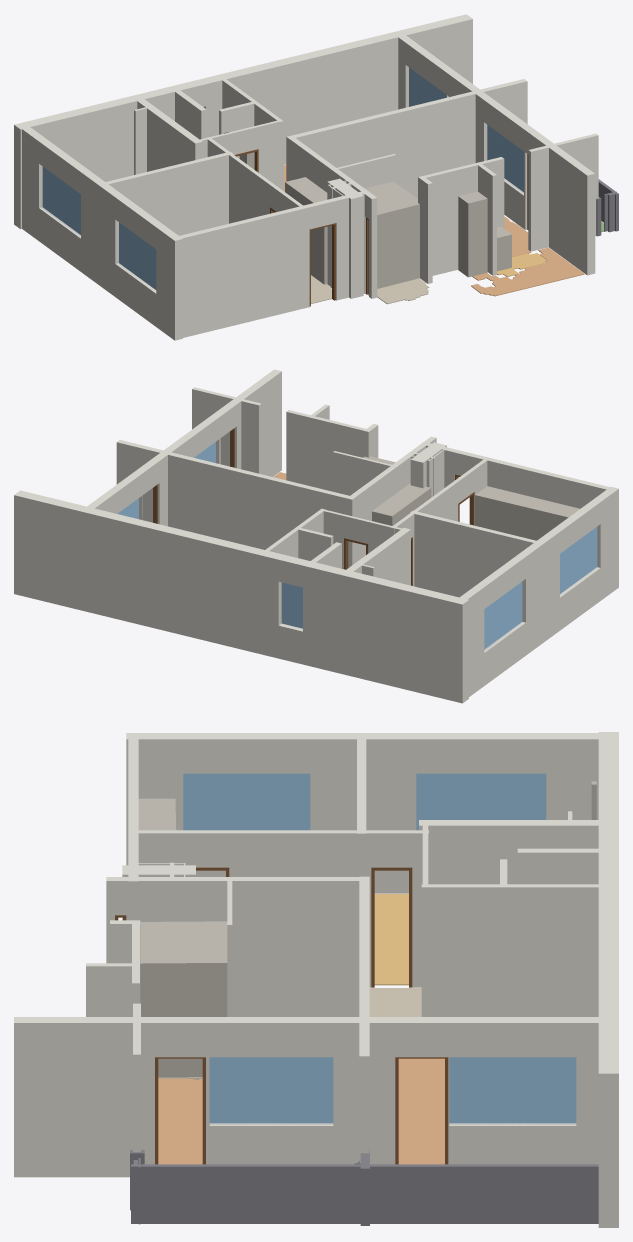
3 renders of one model, top to bottom at view 1: azimuth 30°, elevation 25°; view 2: azimuth 150°, elevation 25°; view 3: azimuth 270°, elevation 25°, orthographic. The views are drawn at different scales.
Visible parts, largest first — view 1: walls, furniture_3_closet, furniture_5_closet, floor_10_Living_Room, furniture_2_closet, window_5, window_4, window_8, railings, floor_11_Entry, window_0, furniture_10_appliance (+3 smaller); view 2: walls, furniture_4_closet, window_5, window_4, furniture_2_closet, window_2; view 3: walls, railings, furniture_3_closet, window_0, window_8, window_4, window_5, floor_3_Living_Room, floor_9_Living_Room, floor_0_Kitchen, floor_4_Entry, furniture_4_closet (+3 smaller).
Boxes of the visible parts, x1,y1,x2,y2 form: walls: (14, 14, 598, 340); furniture_3_closet: (365, 181, 419, 288); furniture_5_closet: (458, 191, 487, 277); floor_10_Living_Room: (471, 247, 584, 296); furniture_2_closet: (285, 177, 327, 284); window_5: (42, 166, 80, 234); window_4: (119, 222, 156, 289); window_8: (487, 125, 523, 191); railings: (596, 179, 618, 236); floor_11_Entry: (377, 278, 429, 304); window_0: (409, 67, 446, 106); furniture_10_appliance: (497, 226, 511, 271); walls: (14, 369, 618, 703); furniture_4_closet: (475, 486, 579, 540); window_5: (484, 582, 522, 649); window_4: (560, 527, 597, 593); furniture_2_closet: (372, 483, 431, 525); window_2: (281, 582, 302, 628); walls: (14, 732, 618, 1227); railings: (130, 1148, 598, 1225); furniture_3_closet: (140, 921, 227, 1077); window_0: (449, 1057, 576, 1123); window_8: (209, 1057, 333, 1123); window_4: (183, 773, 310, 830); window_5: (416, 773, 546, 830); floor_3_Living_Room: (398, 1058, 444, 1164); floor_9_Living_Room: (158, 1078, 202, 1164); floor_0_Kitchen: (374, 894, 408, 985); floor_4_Entry: (369, 988, 421, 1016); furniture_4_closet: (138, 798, 176, 830).
Bounding box in the file's own units: 12.81 × 2.72 × 9.59.
